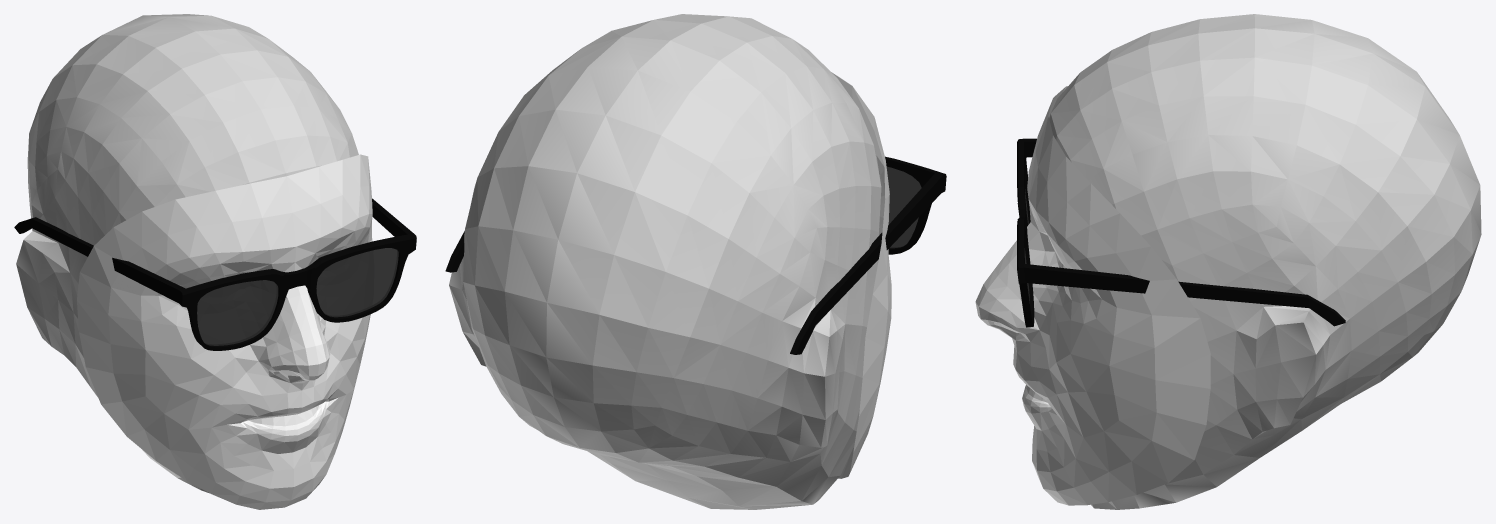
The model's file is sunglasses.glb.
3 views of the same model, side by side, from view 1: azimuth 30°, elevation 25°; view 2: azimuth 150°, elevation 25°; view 3: azimuth 270°, elevation 25° (orthographic). The views are drawn at different scales.
Parts seen in each view (by area): view 1: canonical_face_model, head_occluder, Plane.001; view 2: head_occluder, Plane.001, canonical_face_model; view 3: head_occluder, canonical_face_model, Plane.001.
Boxes of the visible parts, box(x1,y1,x2,y2) form: canonical_face_model: box(77, 154, 372, 509); head_occluder: box(16, 14, 358, 493); Plane.001: box(14, 198, 416, 350); head_occluder: box(449, 14, 881, 509); Plane.001: box(445, 156, 946, 354); canonical_face_model: box(831, 72, 891, 478); head_occluder: box(1049, 14, 1481, 509); canonical_face_model: box(975, 86, 1210, 505); Plane.001: box(1017, 138, 1345, 327).
Size of the model in its own units: 16.88 by 22.04 by 21.56.
Materials: 3 (1 with a texture image).
